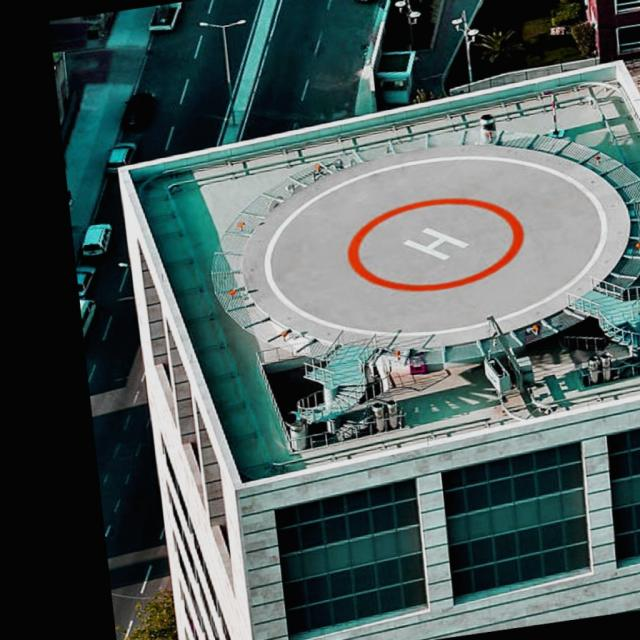helipad: (342, 182, 530, 307)
